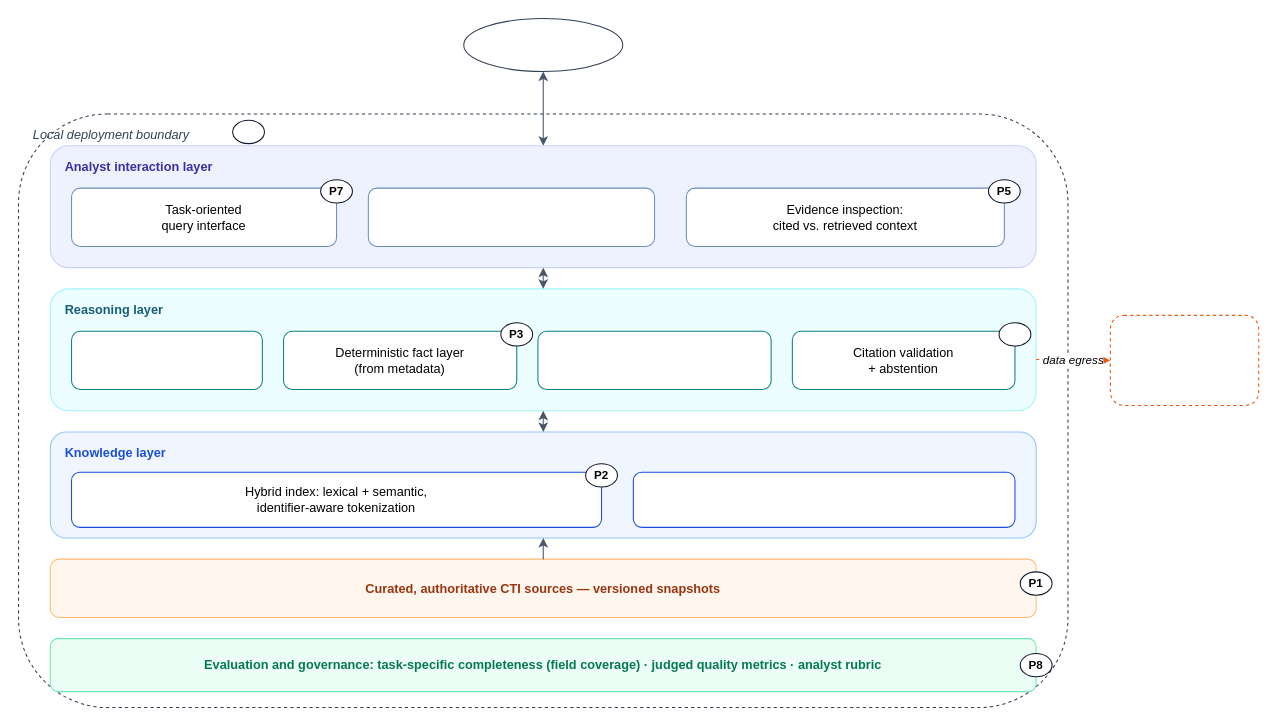
Some shapes in this 1277 by 726 pixel diagram are drawn without their labels. Here are the shapes that lost their labels. From the top down, the centre of each, then its label:
At pixel 543 44: "Security analyst".
At pixel 248 131: "P6".
At pixel 511 216: "Triage-structured answer view".
At pixel 1014 334: "P4".
At pixel 166 360: "Task router".
At pixel 654 360: "Grounded narrative generation (LLM)".
At pixel 1184 359: "Hosted generation model (opt-in)".
At pixel 823 499: "Per-passage provenance metadata".
